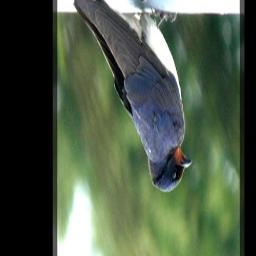Swallow: (59, 0, 193, 193)
